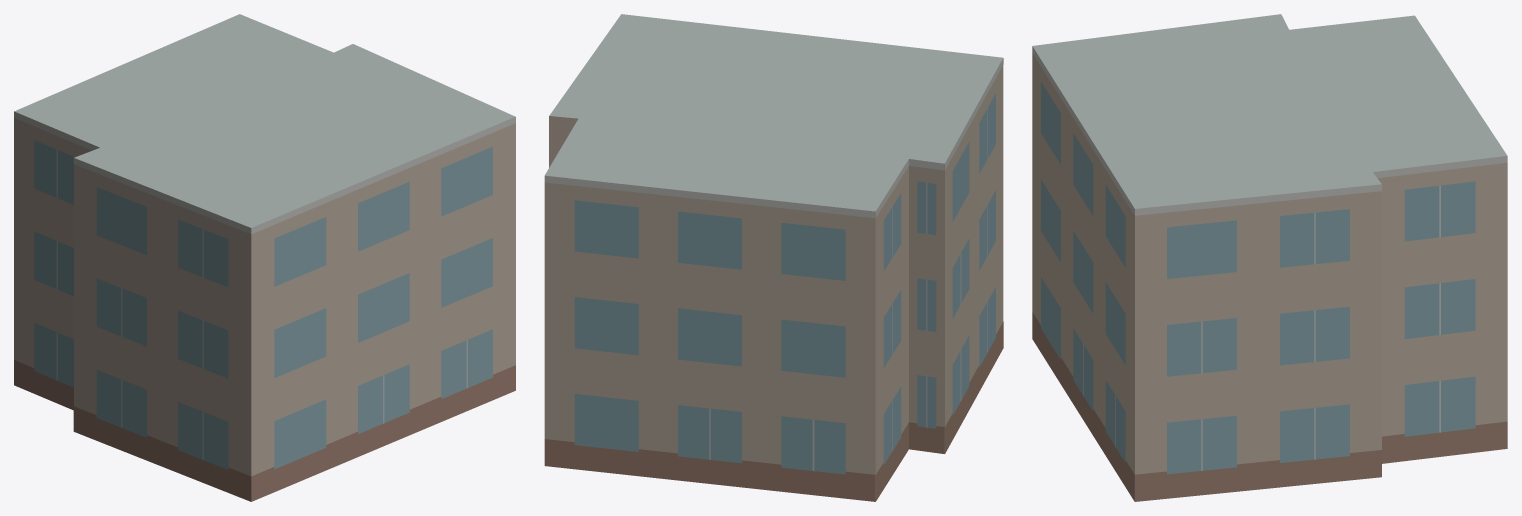
Rendered from survey-upis-32524369.glb.
3 views of the same model, side by side, from view 1: azimuth 30°, elevation 25°; view 2: azimuth 150°, elevation 25°; view 3: azimuth 270°, elevation 25° (orthographic). The views are drawn at different scales.
Visible parts, largest first — view 1: survey-upis-32524369.tmp; view 2: survey-upis-32524369.tmp; view 3: survey-upis-32524369.tmp.
Part boxes in pixels (left/top/right/bottom): survey-upis-32524369.tmp: left=14, top=14, right=515, bottom=501; survey-upis-32524369.tmp: left=544, top=14, right=1003, bottom=501; survey-upis-32524369.tmp: left=1032, top=14, right=1507, bottom=501.
Size of the model in its own units: 15 by 10.5 by 15.45.
